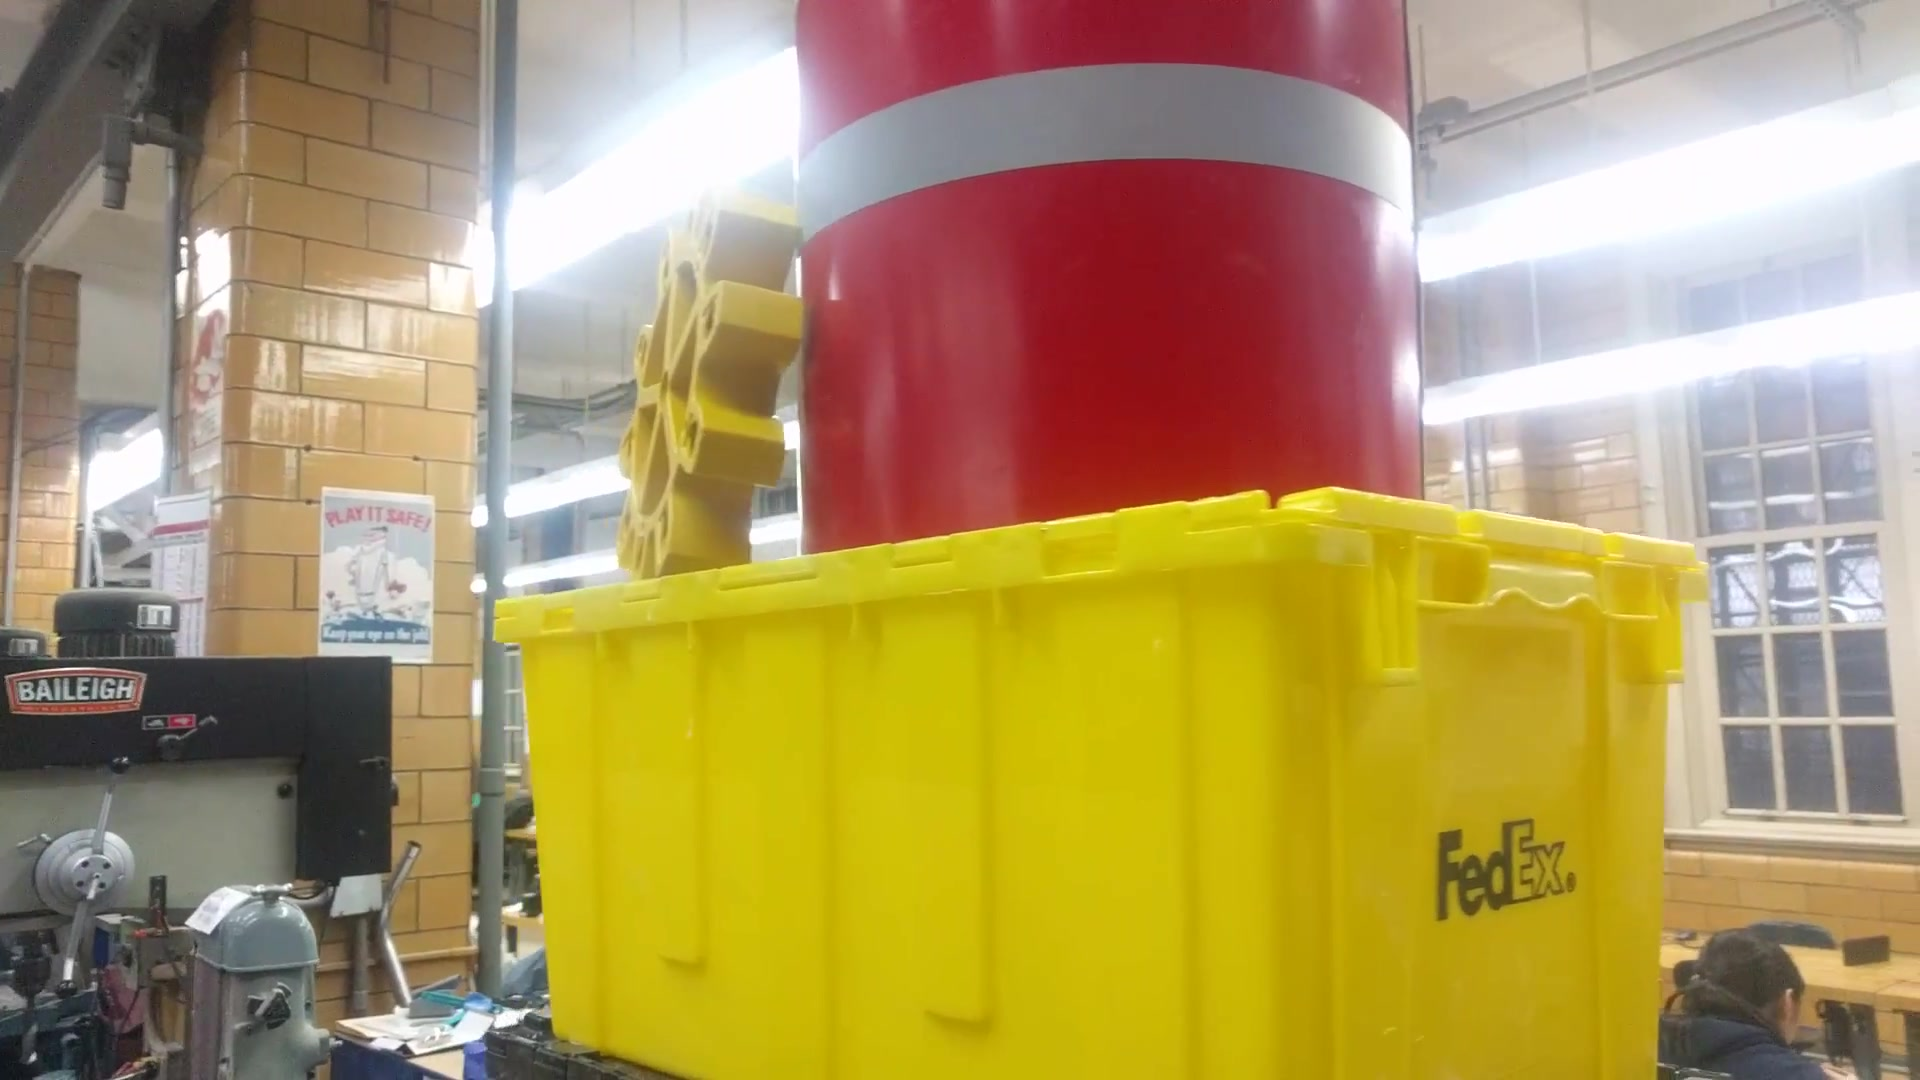gear: (612, 179, 808, 588)
